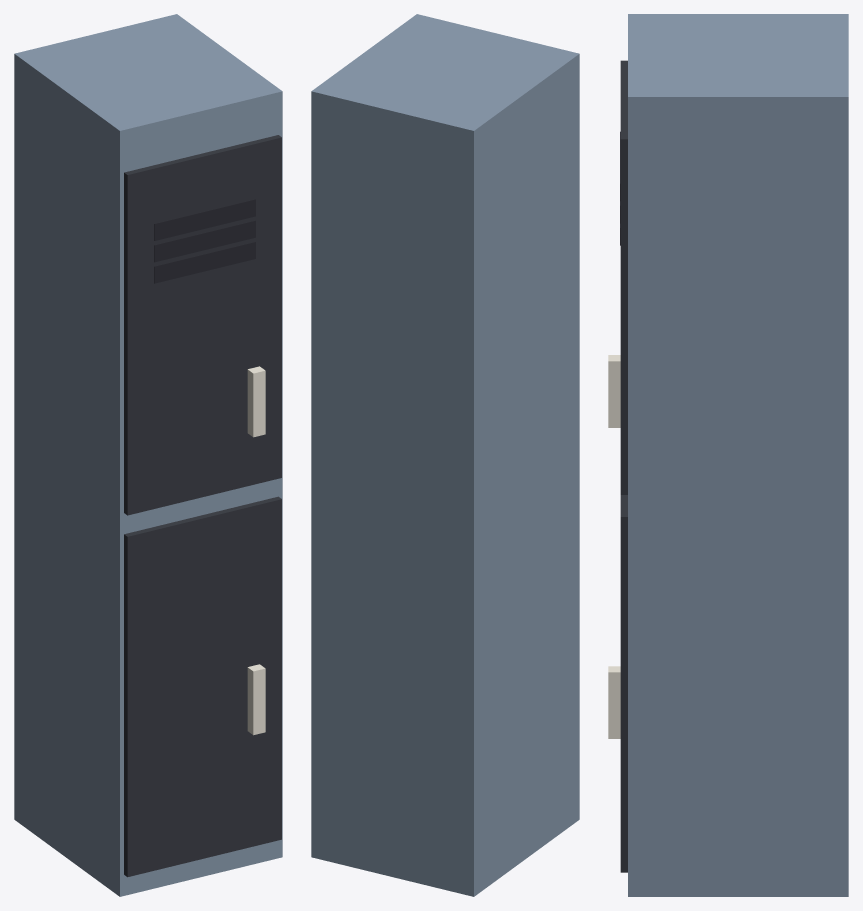
File: locker.fbx
3 views of the same model, side by side, from view 1: azimuth 30°, elevation 25°; view 2: azimuth 150°, elevation 25°; view 3: azimuth 270°, elevation 25° (orthographic). The views are drawn at different scales.
Visible parts, largest first — view 1: locker; view 2: locker; view 3: locker.
Boxes of the visible parts, x1,y1,x2,y2 form: locker: [14, 14, 282, 896]; locker: [311, 14, 579, 896]; locker: [608, 14, 848, 896].
Bounding box in the file's own units: 0.4 × 1.8 × 0.49.
